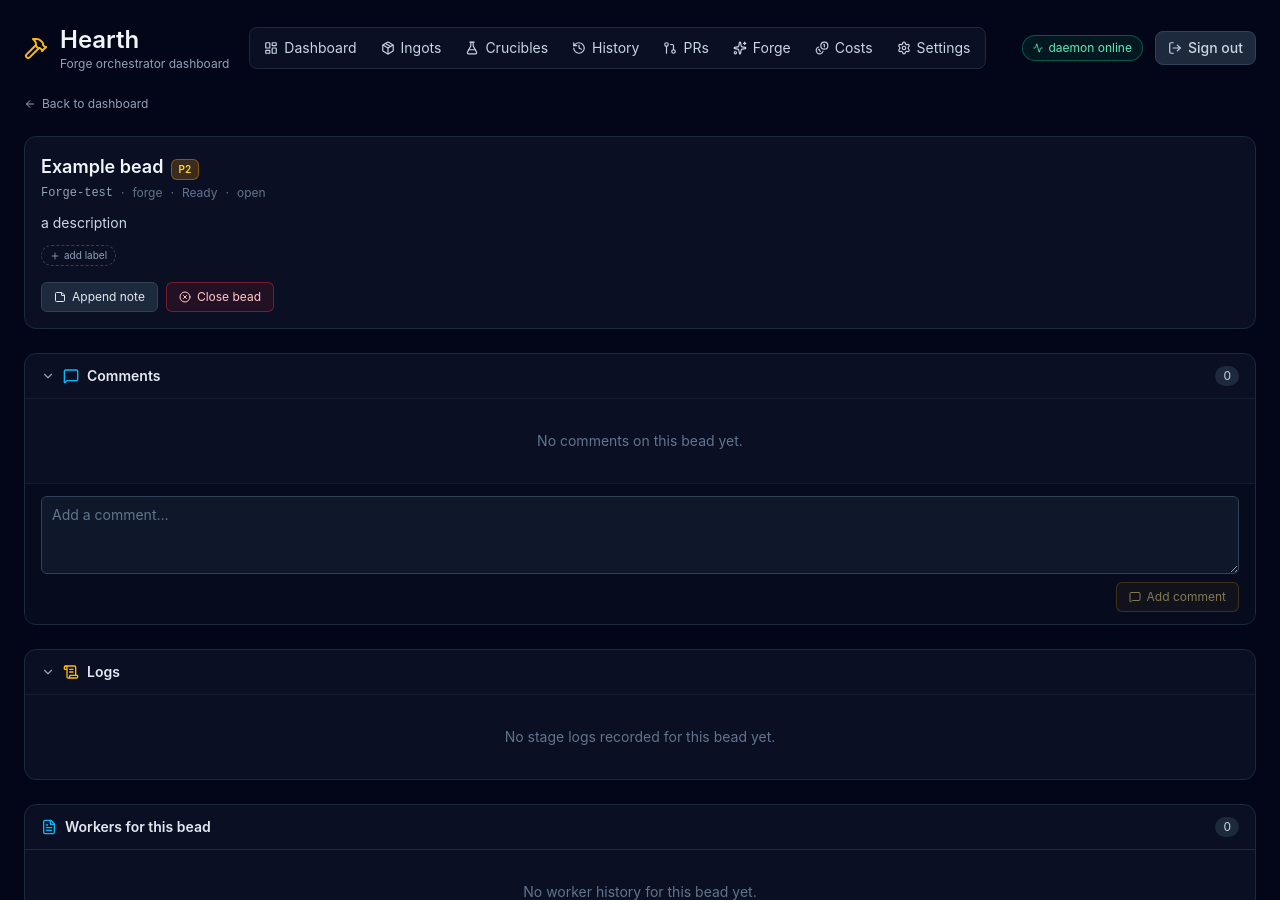
Test: BeadDetailPage comment composer › posts the typed body and appends the returned comment to the list
Type "Looks great" into the text box labelled "Add a comment" at (640, 535), box [41,496,1239,574]
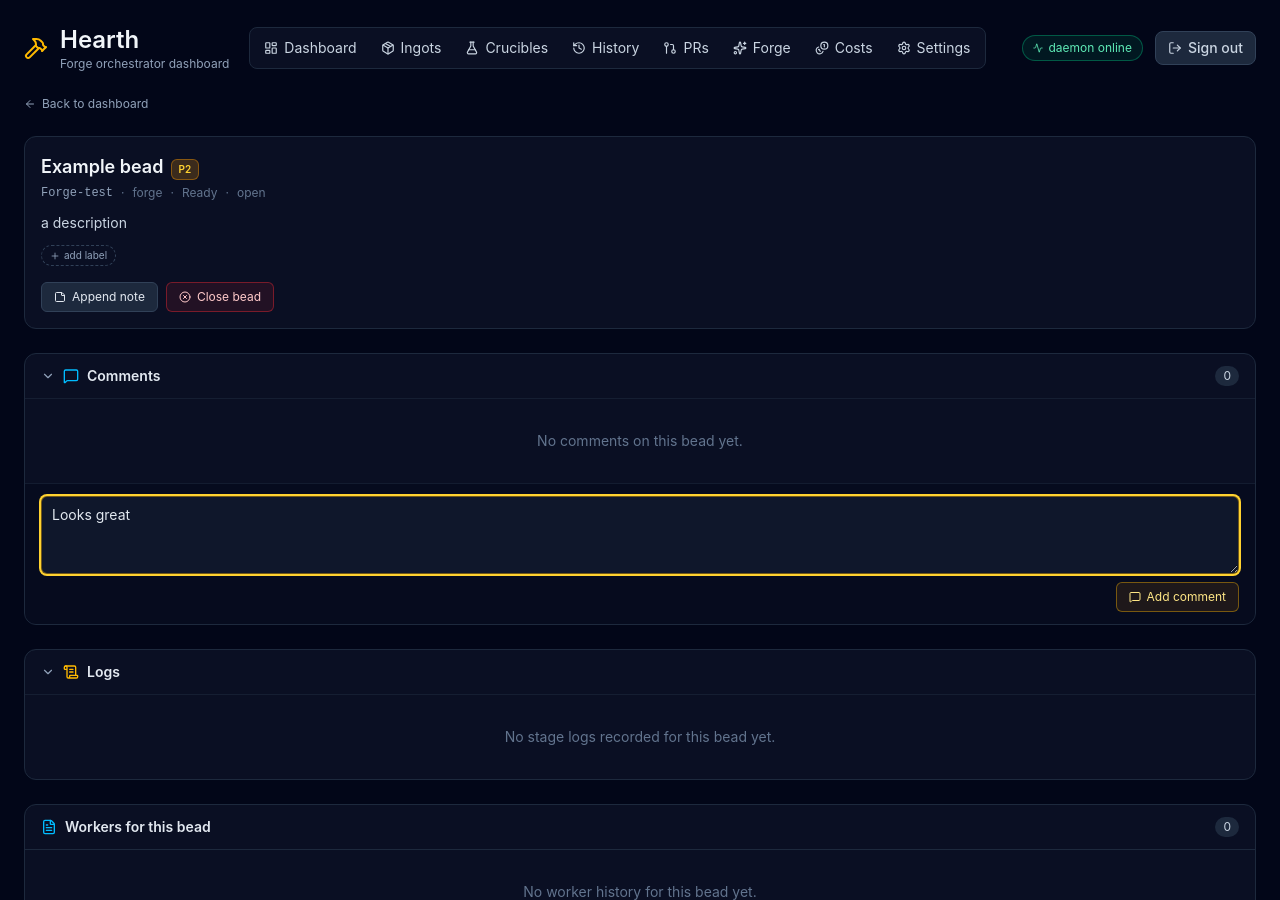
Expected: the button "Add comment" is enabled
Click the button "Add comment" at (1177, 597), box [1116,582,1239,612]
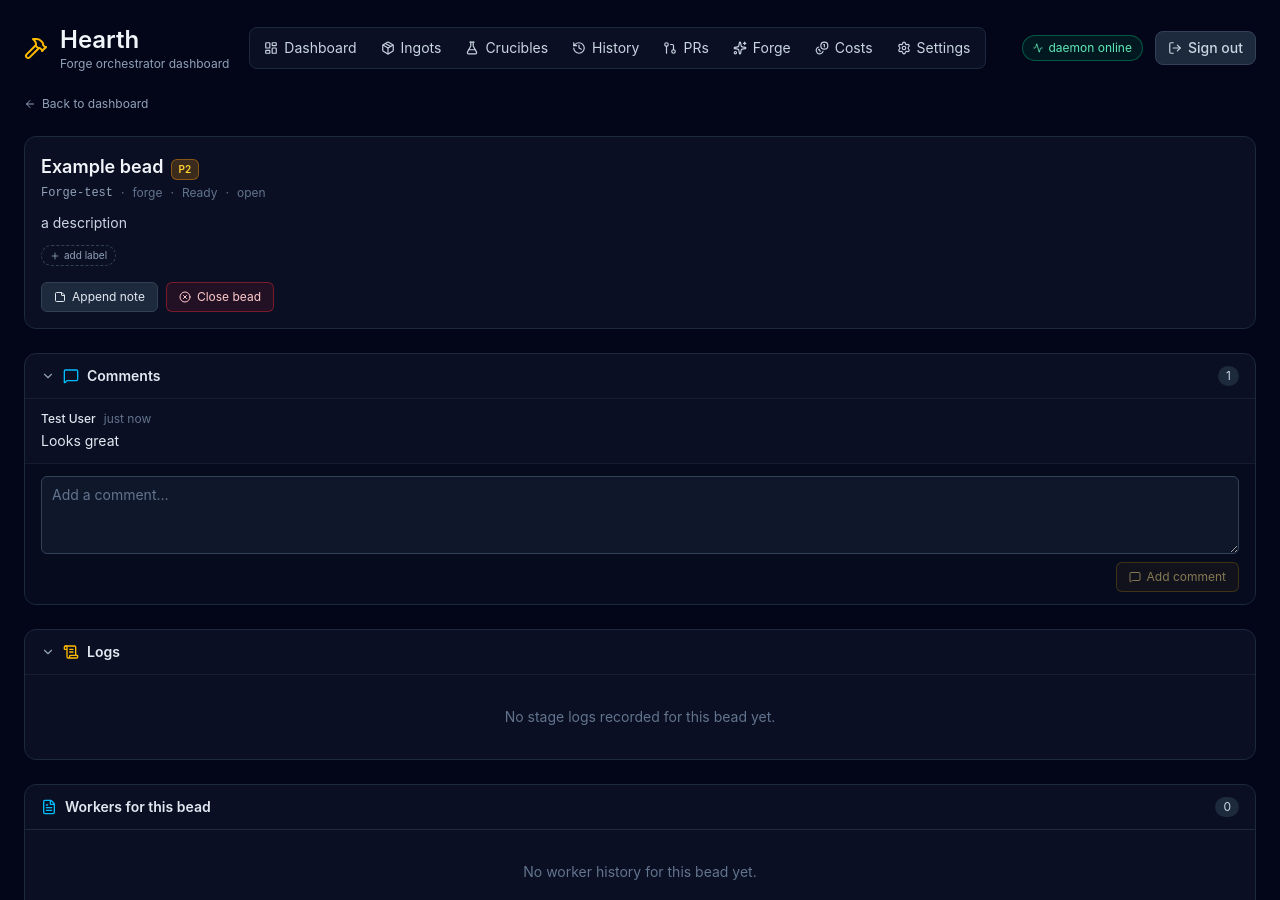
Expected: the text "Looks great" is shown, [41,432,119,449]
Expected: the text "Test User" is shown, [41,411,96,427]
Expected: the text box labelled "Add a comment" is empty, [41,476,1239,554]
